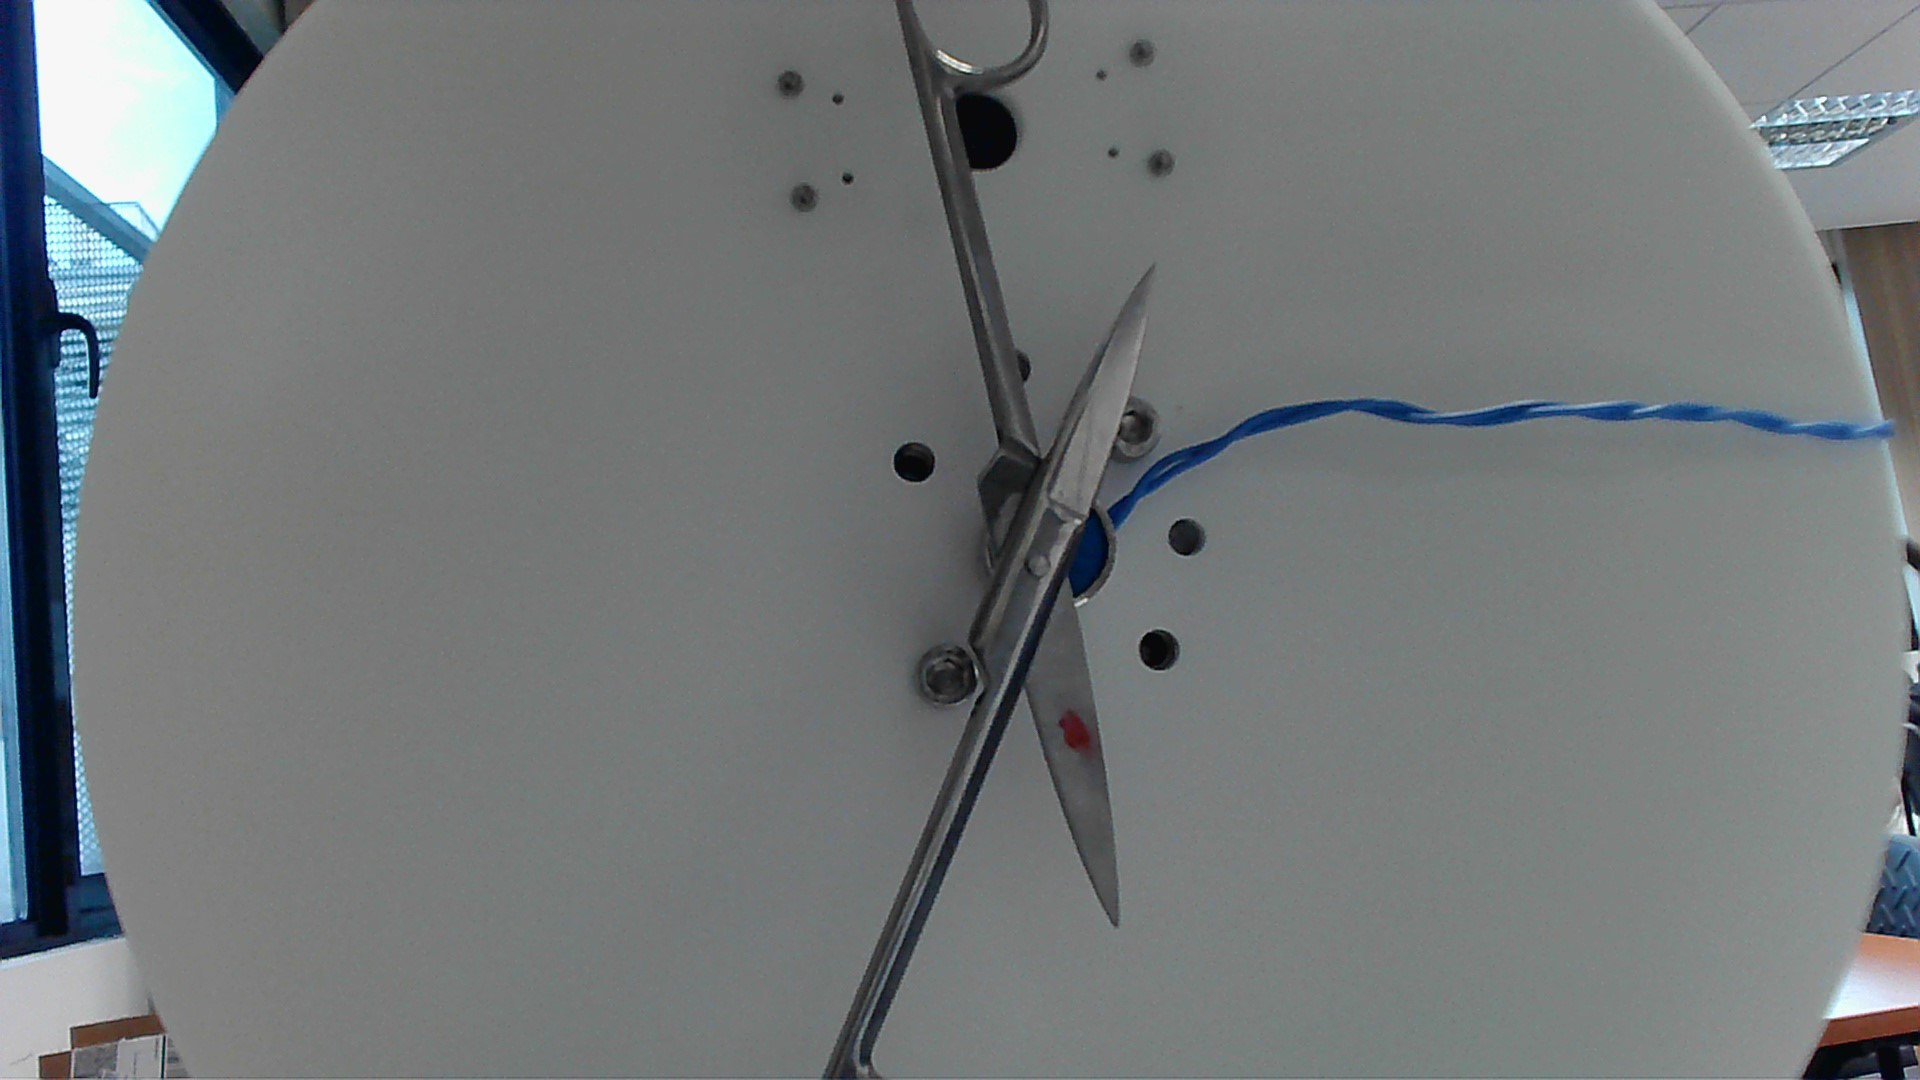Stain: (1048, 705, 1106, 762)
